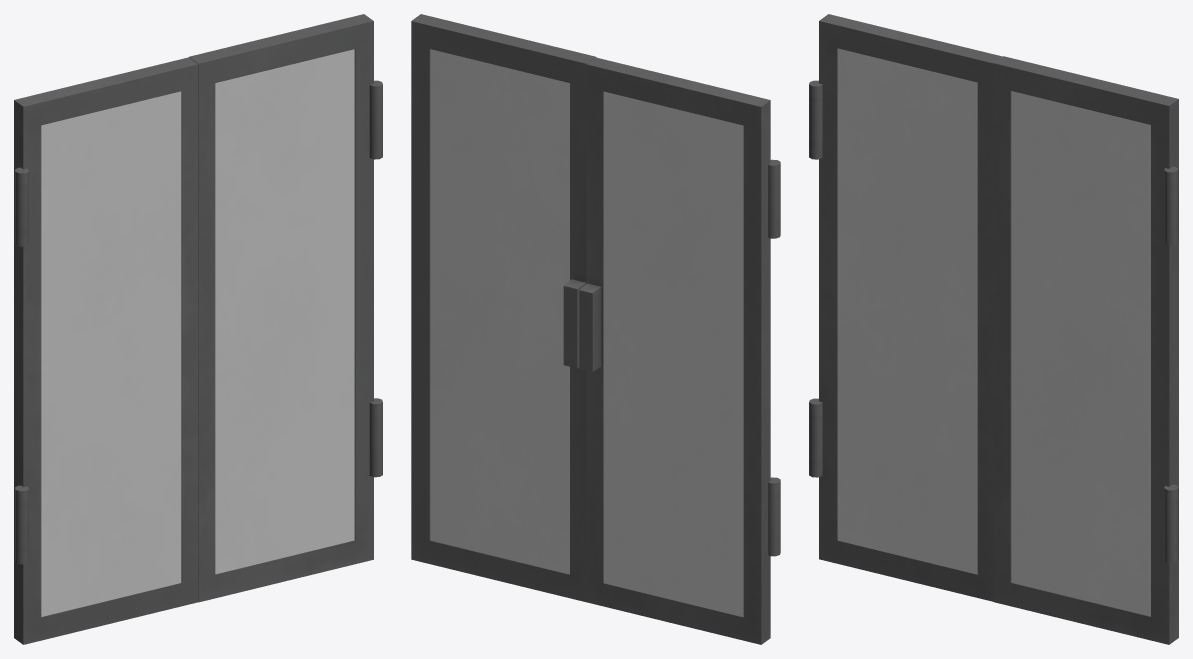
Rendered from Pfb_Indoors_Study_Shelf_JLAB04__10.fbx.
3 renders of one model, left to right at view 1: azimuth 30°, elevation 25°; view 2: azimuth 150°, elevation 25°; view 3: azimuth 330°, elevation 25°, orthographic.
Parts seen in each view (by area): view 1: Mat_Tile_Metal_01 12, MAT_Shop_Refridge_01_3 2; view 2: Mat_Tile_Metal_01 12, MAT_Shop_Refridge_01_3 2; view 3: Mat_Tile_Metal_01 12, MAT_Shop_Refridge_01_3 2.
Part boxes in pixels (x1,y1,x2,y2): Mat_Tile_Metal_01 12: (41, 49, 354, 616); MAT_Shop_Refridge_01_3 2: (14, 14, 382, 644); Mat_Tile_Metal_01 12: (430, 49, 743, 616); MAT_Shop_Refridge_01_3 2: (411, 14, 780, 644); Mat_Tile_Metal_01 12: (837, 48, 1150, 616); MAT_Shop_Refridge_01_3 2: (809, 14, 1178, 644).
Size of the model in its own units: 1.84 by 2.59 by 0.1918.
2 materials, 2 textured.
